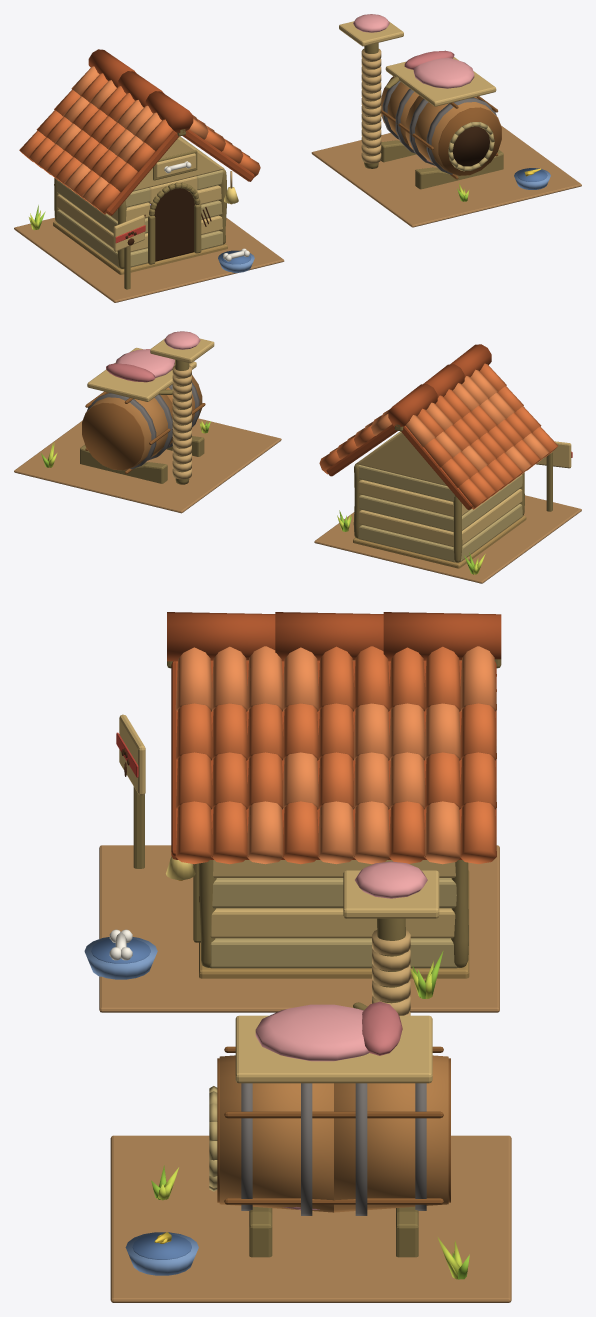
Rendered from niches.glb.
3 renders of one model, top to bottom at view 1: azimuth 30°, elevation 25°; view 2: azimuth 150°, elevation 25°; view 3: azimuth 270°, elevation 25°, orthographic. The views are drawn at different scales.
Parts seen in each view (by area): view 1: terre_battue.001, tuile, terre_battue, tuile.001, planche, tuile.002, tonneau, ouverture, corde, planche.001, coussin.002, plateau (+16 smaller); view 2: terre_battue.001, tuile, planche, terre_battue, tuile.001, planche.001, fond, tuile.002, corde, pignon, tonneau, plateau (+11 smaller); view 3: terre_battue.001, tuile, tuile.001, terre_battue, tonneau, tuile.002, planche, planche.001, plateau, coussin.002, cerclage, toit (+15 smaller).
Part boxes in pixels (<box>): terre_battue.001: <box>311,125,581,227</box>; tuile: <box>19,73,260,214</box>; terre_battue: <box>14,217,284,302</box>; tuile.001: <box>54,66,241,207</box>; planche: <box>56,136,223,267</box>; tuile.002: <box>88,49,193,132</box>; tonneau: <box>381,76,501,175</box>; ouverture: <box>150,188,194,261</box>; corde: <box>361,49,381,163</box>; planche.001: <box>57,185,222,251</box>; coussin.002: <box>353,14,474,162</box>; plateau: <box>385,57,496,106</box>; terre_battue.001: <box>14,418,281,513</box>; tuile: <box>319,363,557,509</box>; planche: <box>358,431,522,562</box>; terre_battue: <box>314,495,581,583</box>; tuile.001: <box>330,369,549,476</box>; planche.001: <box>358,480,522,546</box>; fond: <box>82,403,144,470</box>; tuile.002: <box>388,344,491,426</box>; corde: <box>172,365,191,479</box>; pignon: <box>356,432,446,485</box>; tonneau: <box>82,375,202,470</box>; plateau: <box>87,347,196,401</box>; terre_battue.001: <box>110,1135,511,1302</box>; tuile: <box>175,646,496,864</box>; tuile.001: <box>175,646,496,864</box>; terre_battue: <box>99,845,499,1012</box>; tonneau: <box>219,1055,448,1212</box>; tuile.002: <box>167,612,501,661</box>; planche: <box>201,878,458,968</box>; planche.001: <box>210,860,455,938</box>; plateau: <box>235,1015,432,1083</box>; coussin.002: <box>255,861,427,1209</box>; cerclage: <box>241,1083,426,1215</box>; toit: <box>171,660,496,859</box>.
Bounding box in the file's own units: 4.7 × 1.53 × 1.87.
